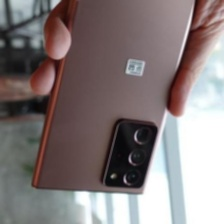phone: (25, 0, 203, 199)
